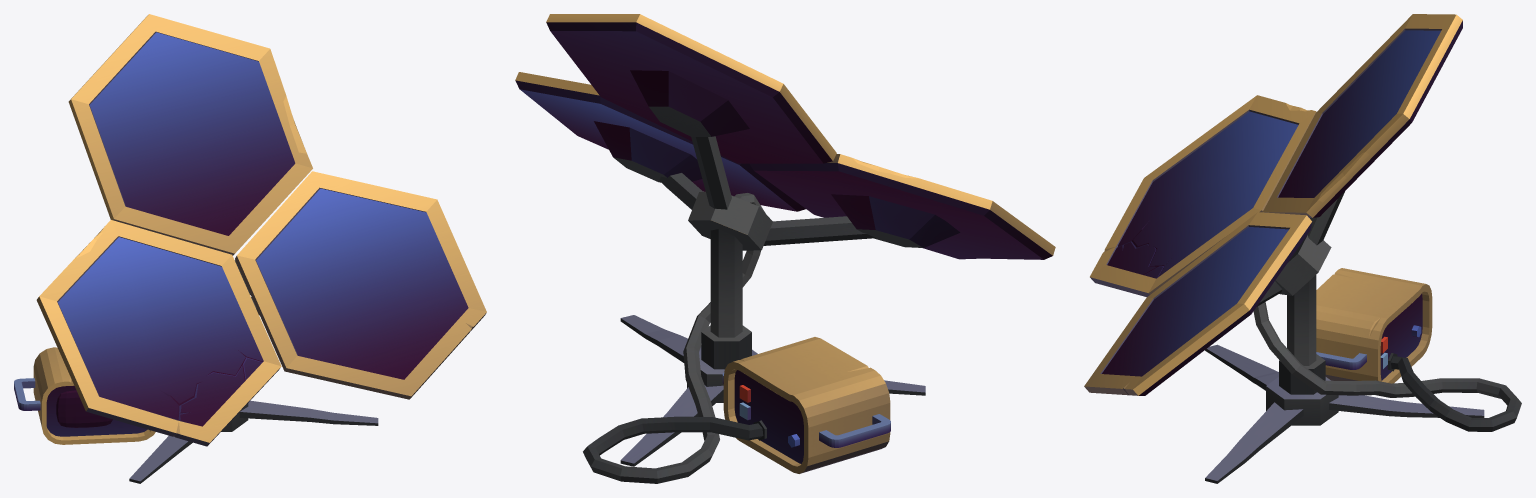
File: solar array.gltf
3 views of the same model, side by side, from view 1: azimuth 30°, elevation 25°; view 2: azimuth 150°, elevation 25°; view 3: azimuth 270°, elevation 25° (orthographic). The views are drawn at different scales.
Visible parts, largest first — view 1: solar panel 2, solar panel 3, solar panel 1, power box case, leg front right, screen, leg front left, handles; view 2: solar panel 2, power box case, solar panel 1, Cable, solar panel 3, attach point upper, attach point left, support main, attach point right, support lower, center connector, base connector (+4 smaller); view 3: solar panel 1, solar panel 3, solar panel 2, power box case, Cable, base connector, leg front right, support main, leg rear, center connector, leg front left, support upper (+1 smaller).
Part boxes in pixels (bbox=[...]): solar panel 2: bbox=[68, 14, 312, 255]; solar panel 3: bbox=[235, 171, 486, 399]; solar panel 1: bbox=[36, 220, 281, 446]; power box case: bbox=[33, 347, 155, 444]; leg front right: bbox=[239, 400, 378, 425]; screen: bbox=[56, 390, 112, 427]; leg front left: bbox=[129, 435, 192, 483]; handles: bbox=[14, 378, 40, 410]; solar panel 2: bbox=[546, 14, 836, 163]; power box case: bbox=[723, 337, 890, 473]; solar panel 1: bbox=[749, 154, 1055, 259]; Cable: bbox=[583, 193, 765, 483]; solar panel 3: bbox=[515, 72, 805, 211]; attach point upper: bbox=[630, 70, 749, 136]; attach point left: bbox=[831, 194, 960, 247]; support main: bbox=[710, 229, 742, 337]; attach point right: bbox=[594, 121, 702, 182]; support lower: bbox=[659, 173, 875, 245]; center connector: bbox=[688, 191, 772, 250]; base connector: bbox=[687, 325, 757, 402]; solar panel 1: bbox=[1090, 95, 1316, 296]; solar panel 3: bbox=[1084, 212, 1312, 395]; solar panel 2: bbox=[1263, 14, 1462, 217]; power box case: bbox=[1316, 268, 1432, 383]; Cable: bbox=[1253, 302, 1521, 431]; base connector: bbox=[1266, 354, 1338, 425]; leg front right: bbox=[1205, 402, 1303, 483]; support main: bbox=[1287, 275, 1316, 365]; leg rear: bbox=[1329, 395, 1484, 417]; center connector: bbox=[1275, 234, 1331, 295]; leg front left: bbox=[1205, 344, 1278, 390]; support upper: bbox=[1308, 191, 1344, 245].
Size of the model in its own units: 3.5 by 3.04 by 3.
2 materials, 2 textured.
